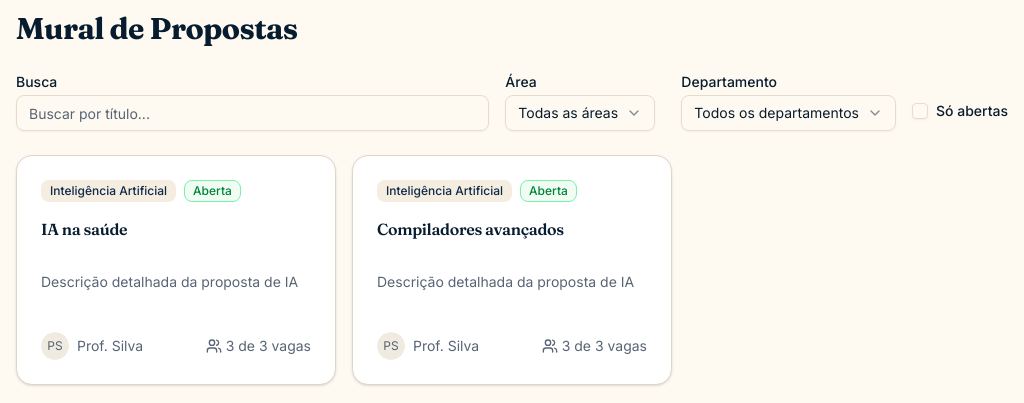
ProposalsPage › hides cards that do not match the search text
Expected: the heading "IA na saúde" is shown, [41,219,127,239]
Type "Comp" into the field with placeholder "Buscar por título..." at (253, 113), box [16,95,489,131]
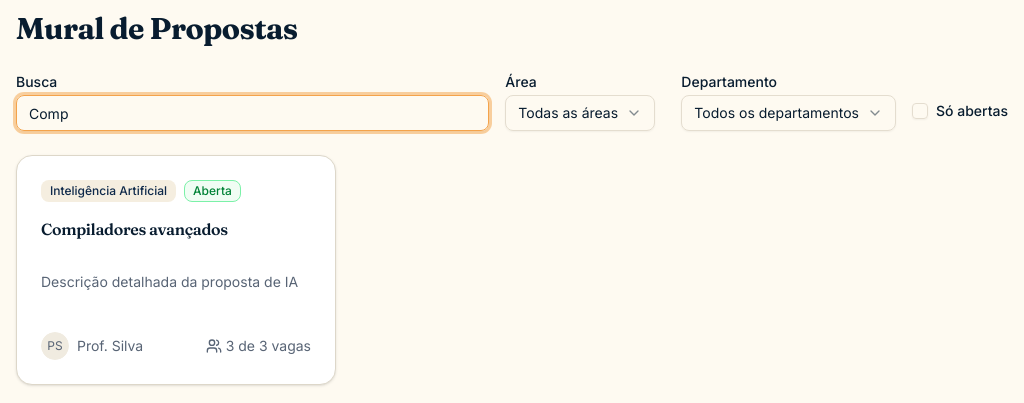
Expected: the heading "Compiladores avançados" is shown, [41,219,228,239]
Expected: the link "IA na saúde" is gone
